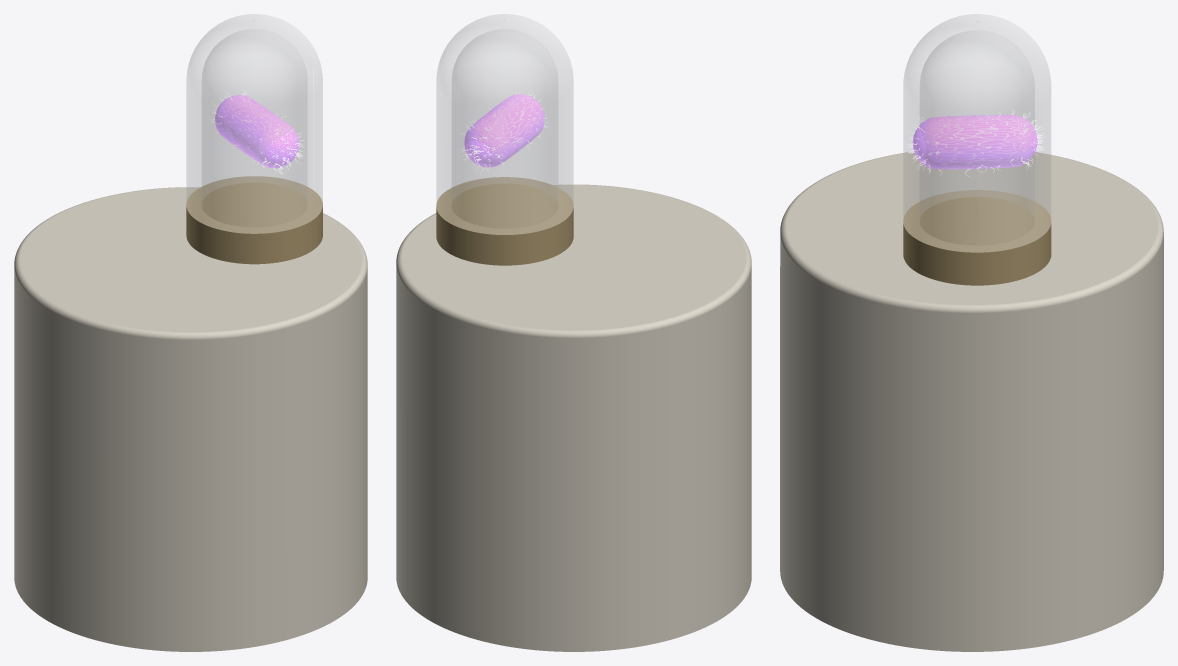
File: bacteria_small_02.glb
The picture shows the model from 3 angles, left to right: view 1: azimuth 30°, elevation 25°; view 2: azimuth 150°, elevation 25°; view 3: azimuth 270°, elevation 25°; orthographic projection. The views are drawn at different scales.
Parts seen in each view (by area): view 1: PEANA_Vitrina_5, VITRINA_Campana_5, VITRINA_Base_5, Bacteria_Capsula_Mesh_10; view 2: PEANA_Vitrina_5, VITRINA_Campana_5, VITRINA_Base_5, Bacteria_Capsula_Mesh_10; view 3: PEANA_Vitrina_5, VITRINA_Campana_5, VITRINA_Base_5, Bacteria_Capsula_Mesh_10, Bacteria_Pili_Mesh_10.
Part boxes in pixels (<box>): PEANA_Vitrina_5: <box>14,187,367,651</box>; VITRINA_Campana_5: <box>186,14,322,233</box>; VITRINA_Base_5: <box>186,176,322,264</box>; Bacteria_Capsula_Mesh_10: <box>215,95,298,168</box>; PEANA_Vitrina_5: <box>396,184,751,651</box>; VITRINA_Campana_5: <box>436,14,573,234</box>; VITRINA_Base_5: <box>436,177,573,265</box>; Bacteria_Capsula_Mesh_10: <box>464,94,544,167</box>; PEANA_Vitrina_5: <box>780,152,1163,651</box>; VITRINA_Campana_5: <box>903,14,1050,252</box>; VITRINA_Base_5: <box>903,190,1051,285</box>; Bacteria_Capsula_Mesh_10: <box>912,115,1037,169</box>; Bacteria_Pili_Mesh_10: <box>905,110,1045,176</box>.
Bounding box in the file's own units: 0.5949 × 1 × 0.5949.
Materials: 5 (1 with a texture image).
